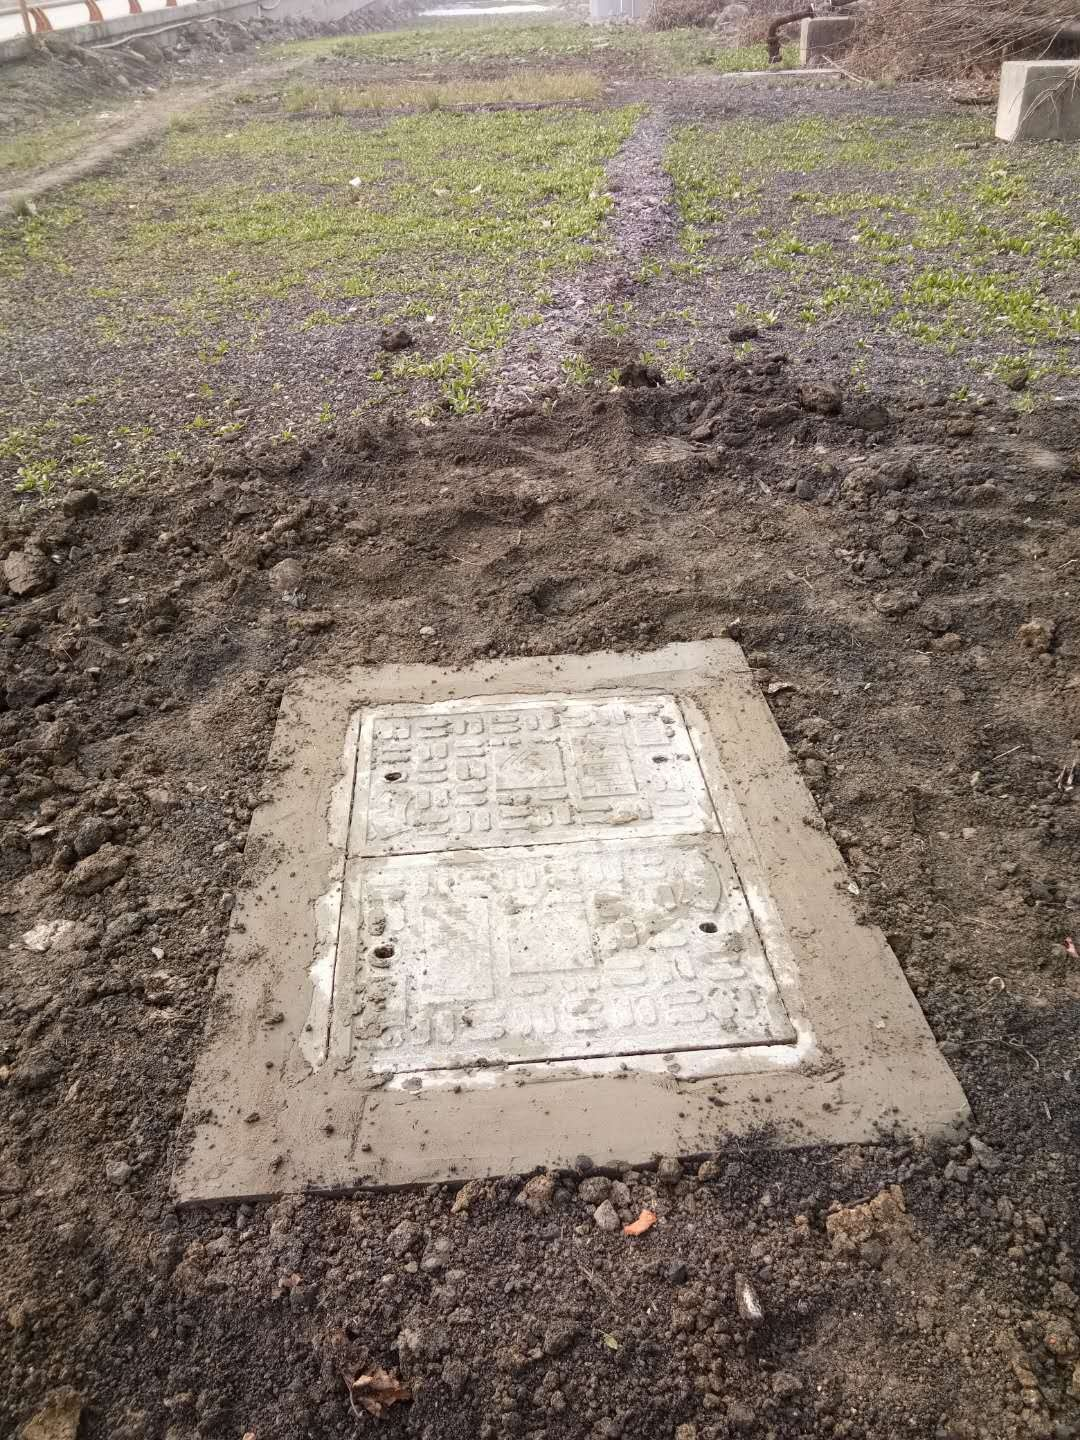good: (334, 681, 826, 1082)
